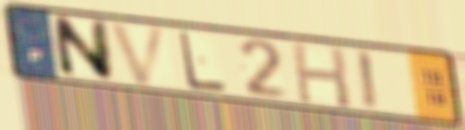2: (235, 37, 291, 102)
H: (288, 39, 355, 111)
I: (352, 47, 381, 113)
L: (177, 29, 230, 94)
N: (48, 14, 117, 83)
V: (106, 20, 171, 88)
